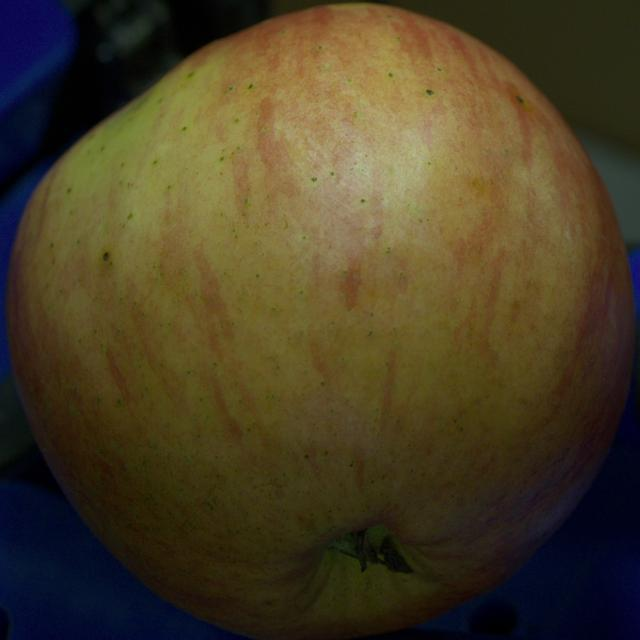apple: (6, 4, 635, 639)
